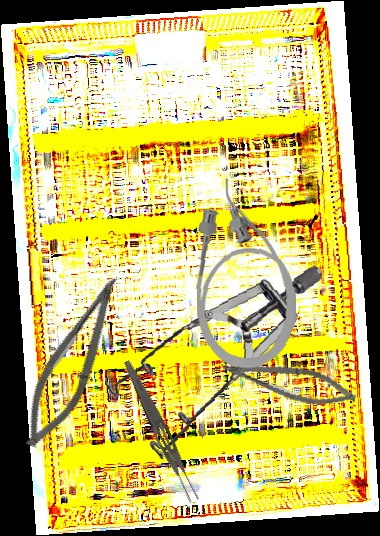Cannula: (192, 175, 299, 372)
Dressing Forceps: (117, 358, 203, 505)
Micro Scissor: (12, 265, 131, 458), (217, 354, 359, 412)
Speculum: (95, 263, 340, 467)
